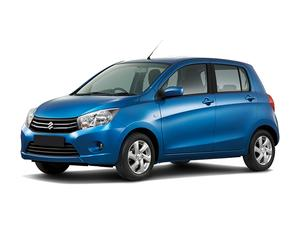windshield: (71, 60, 176, 99)
